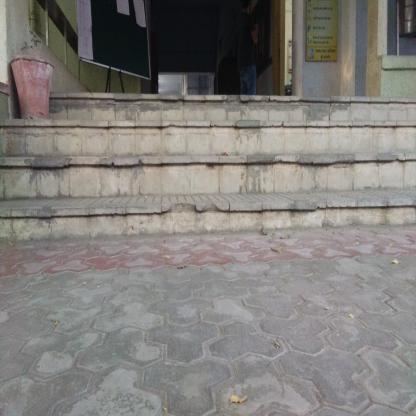stairs: (15, 117, 416, 231)
